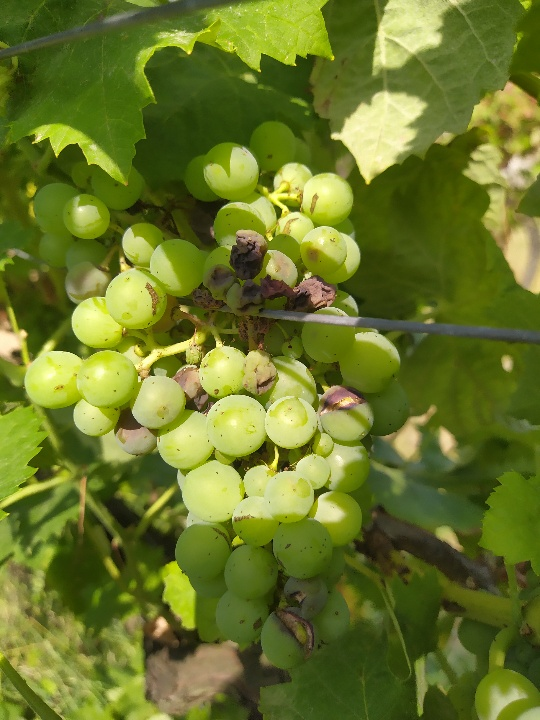grape: (20, 120, 411, 683)
